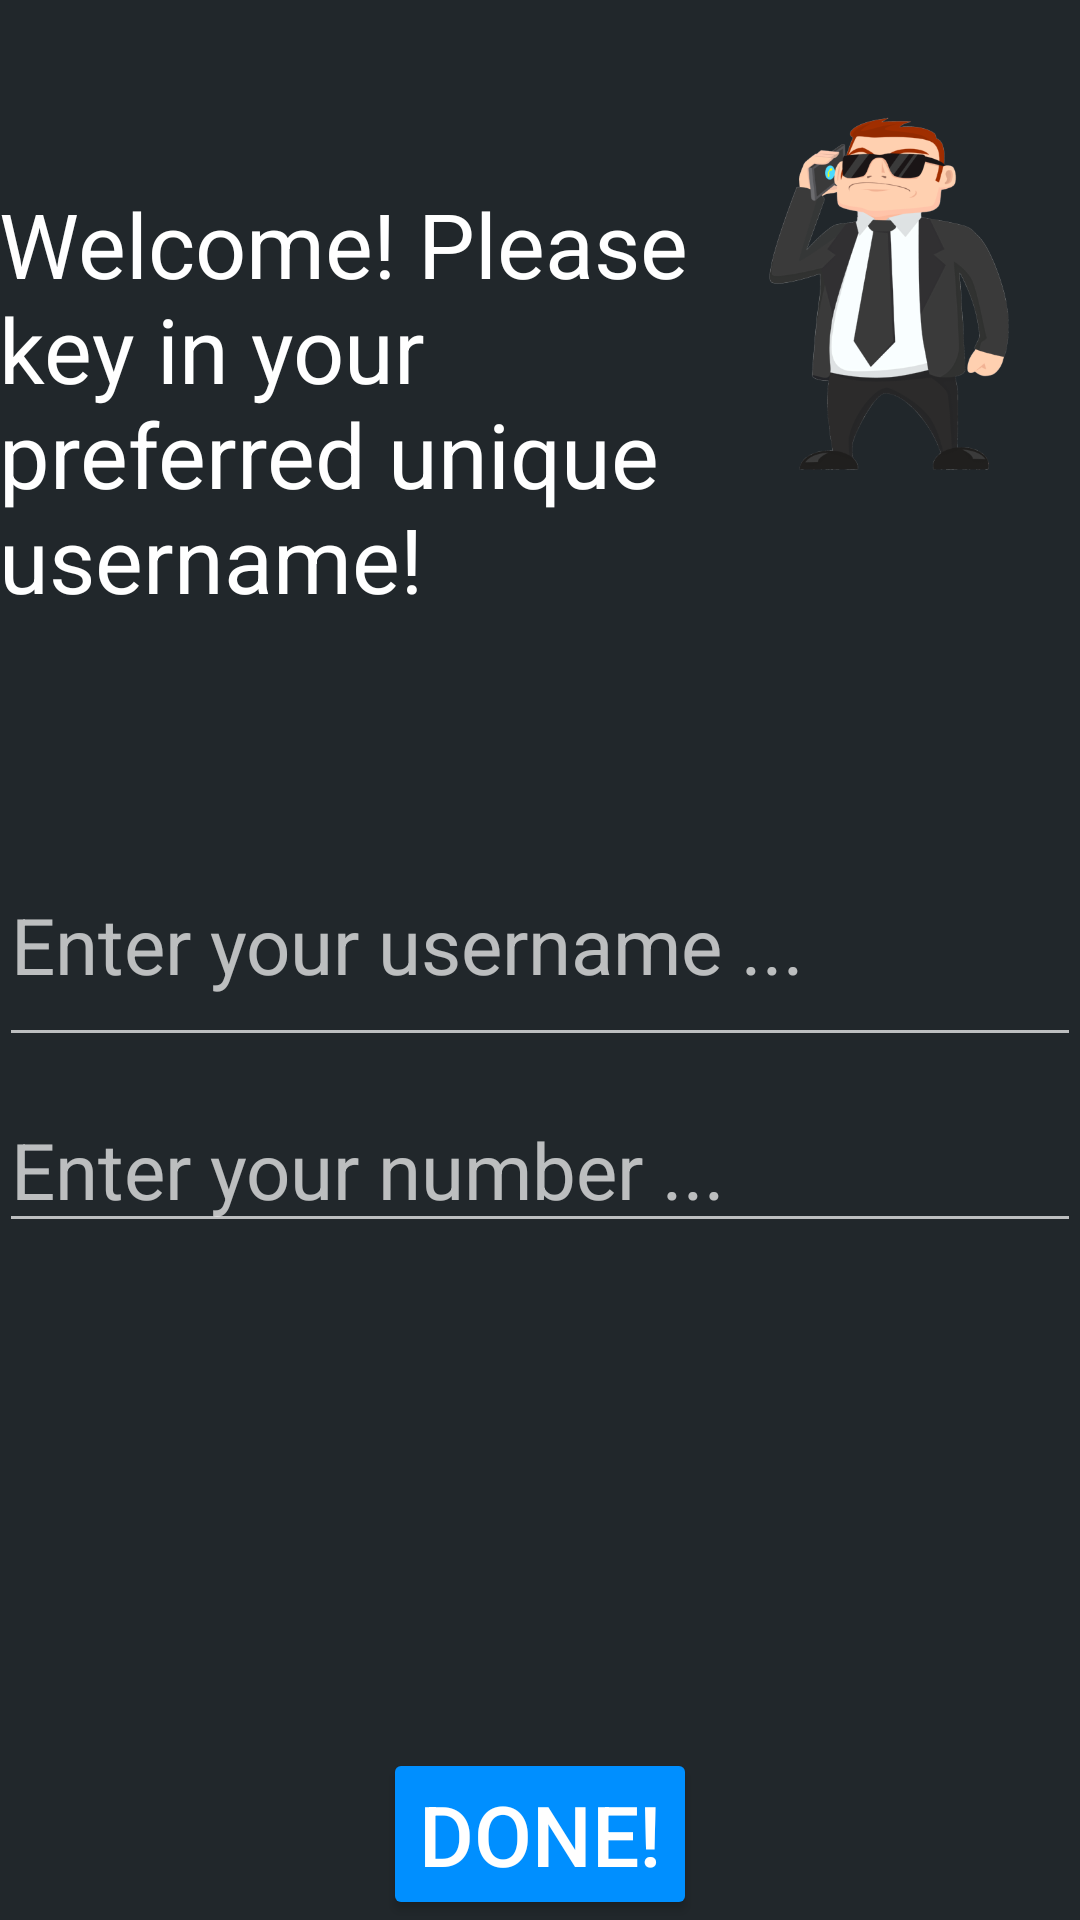

Icons on this 1080*1920 Android screen, each with its box as box(x1, y1, x2, y2):
welcome guard: box(769, 118, 1009, 470)
